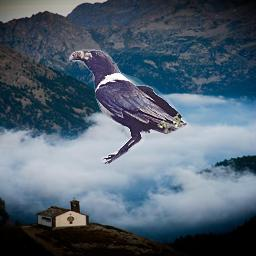Crow: (69, 49, 191, 164)
